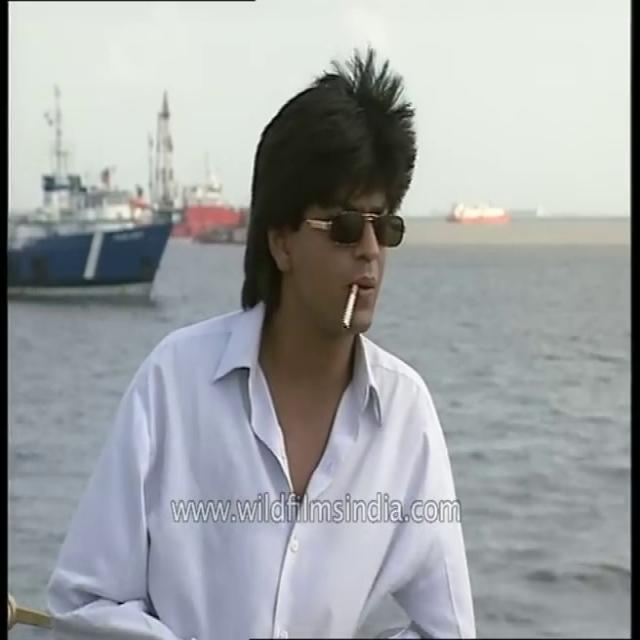Smooking: (337, 276, 363, 336)
